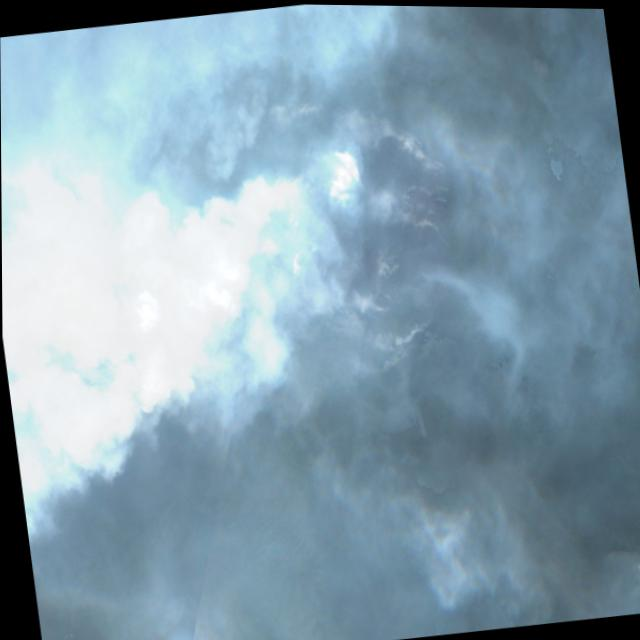fire: (149, 75, 486, 406)
